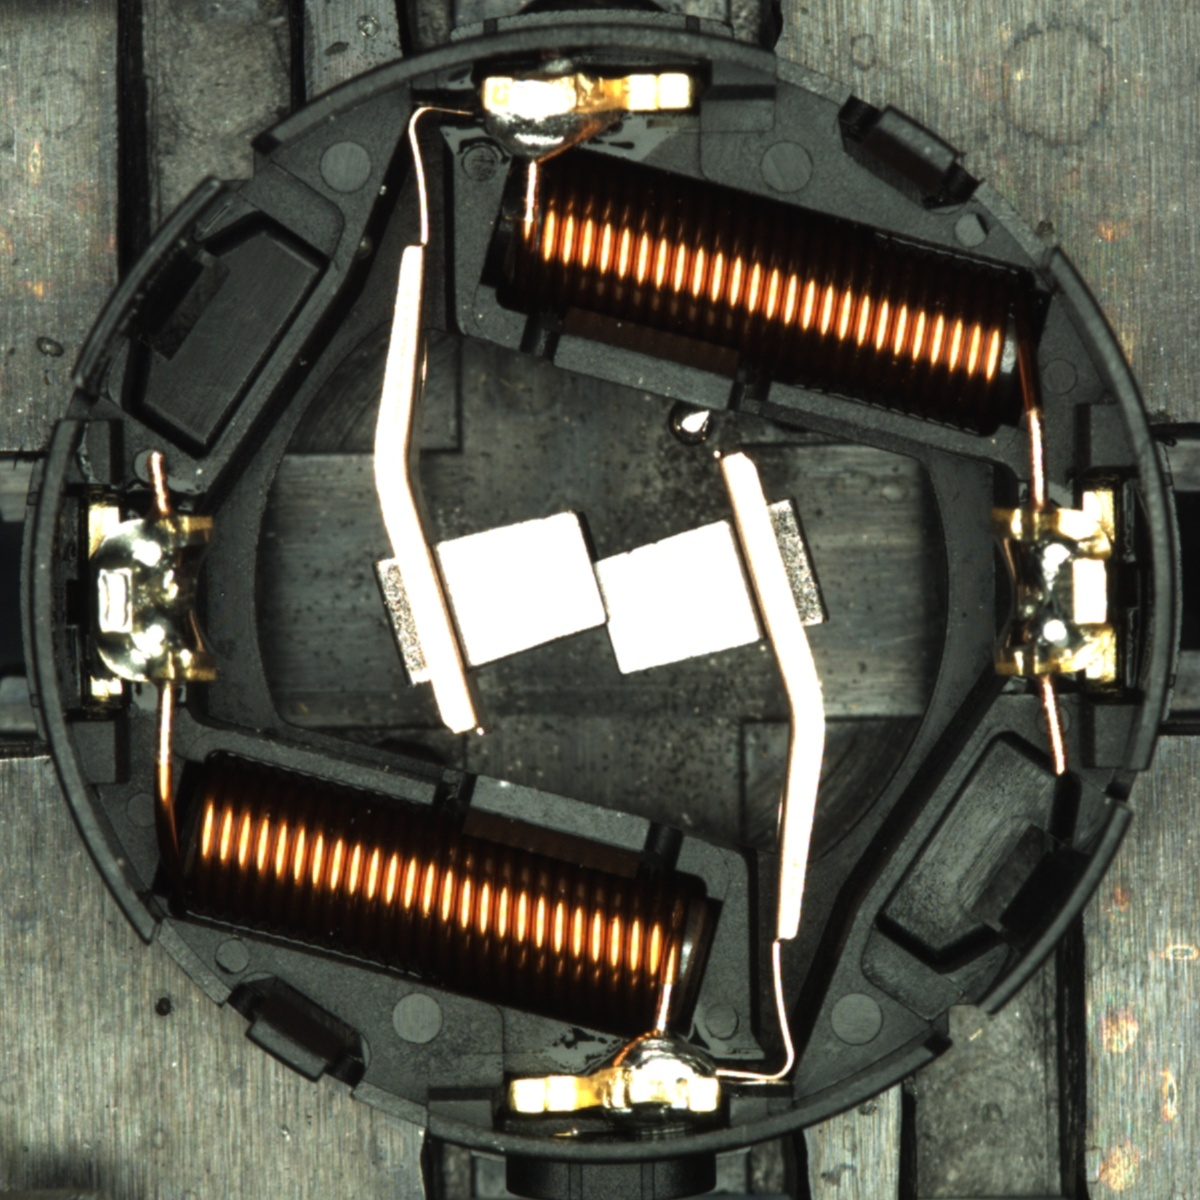1: (711, 929, 941, 1154), (253, 32, 482, 256)
2: (253, 929, 482, 1154), (711, 32, 941, 256)
3: (23, 256, 253, 480), (941, 704, 1169, 929)
4: (253, 256, 482, 480), (711, 704, 941, 929)
5: (482, 816, 711, 1042), (482, 144, 711, 368)
6: (711, 256, 941, 480), (253, 704, 482, 929)
7: (23, 704, 253, 929), (941, 256, 1169, 480)
cacbon: (400, 499, 793, 686)
chau_dien: (82, 498, 222, 699), (984, 488, 1123, 687)
hat_chi: (667, 400, 716, 447)
tay_choi: (481, 70, 697, 167), (509, 1025, 721, 1118)
thanh_de: (953, 787, 1141, 1031), (60, 163, 244, 404)
